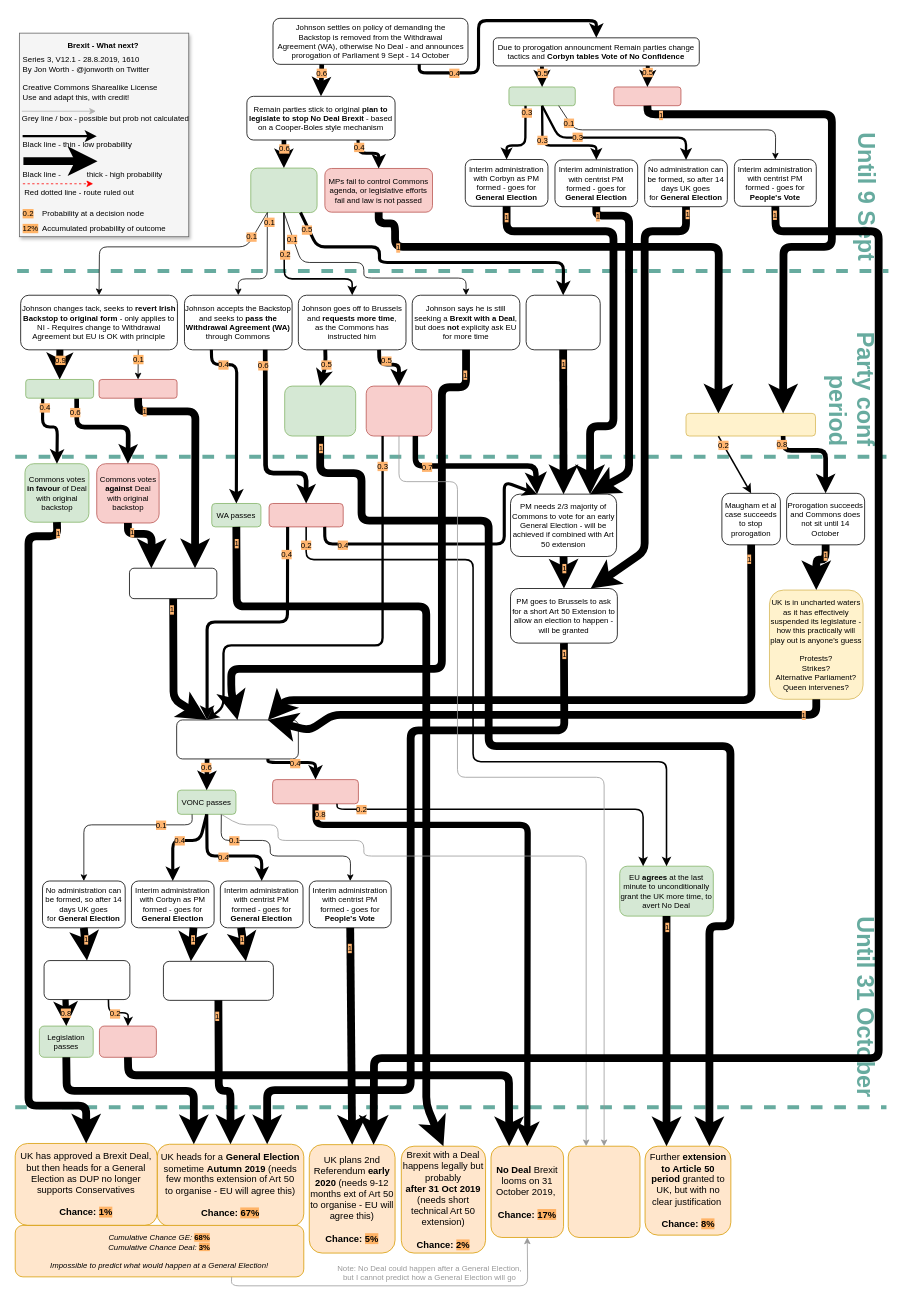
Image size: 905x1306. Some labels were removed from this diagram. Each missing label, with the centre of its shape:
"14 or 15 October Vote of No Confidence (VONC)" belongs at point 237,739.
"Commons votes to Revoke Article 50 Chance: -%" belongs at point 603,1191.
"DUP furious at Johnson's approach" belongs at point 173,583.
"EU agrees" belongs at point 59,388.
"EU agrees to unconditionally grant the UK more time" belongs at point 320,410.
"EU doesn't agree" belongs at point 137,388.
"EU refuses to unconditionally grant the UK more time" belongs at point 398,410.
"Legislation doesn't pass" belongs at point 127,1041.
"Legislative efforts succeed and law is passed" belongs at point 283,190.
"Might need emergency legislation to prevent No Deal before 31 Oct - will pass" belongs at point 218,980.
"Might need emergency legislation to prevent No Deal in washup" belongs at point 86,980.
"Seeing there is no support for his way forward, Johnson calls an election" belongs at point 562,322.
"UK heads for constitutional crisis" belongs at point 750,424.
"VONC doesn't pass" belongs at point 315,791.
"VONC fails" belongs at point 647,96.
"VONC succeeds" belongs at point 541,96.
"WA doesn't pass" belongs at point 305,515.
